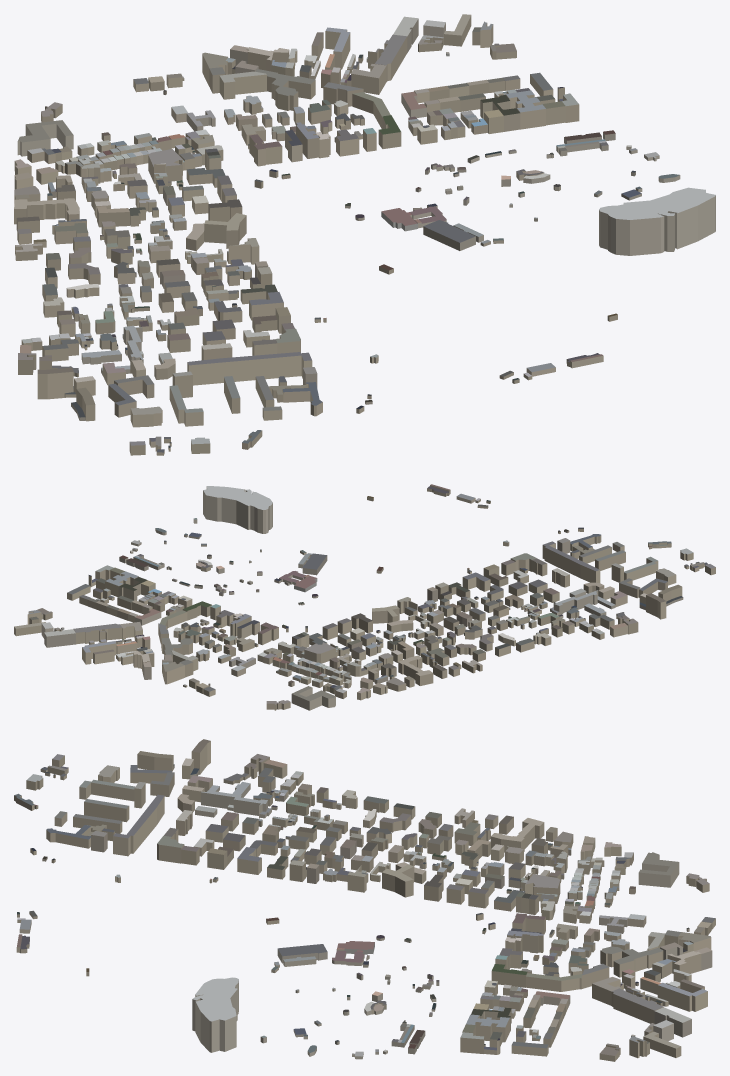
3 renders of one model, top to bottom at view 1: azimuth 30°, elevation 25°; view 2: azimuth 150°, elevation 25°; view 3: azimuth 270°, elevation 25°, orthographic. The views are drawn at different scales.
Parts seen in each view (by area): view 1: tuile; view 2: tuile; view 3: tuile.
Part boxes in pixels (<box>): tuile: <box>14,14,715,455</box>; tuile: <box>14,484,715,710</box>; tuile: <box>14,739,715,1061</box>.
Bounding box in the file's own units: 1034 × 51.1 × 1012.
